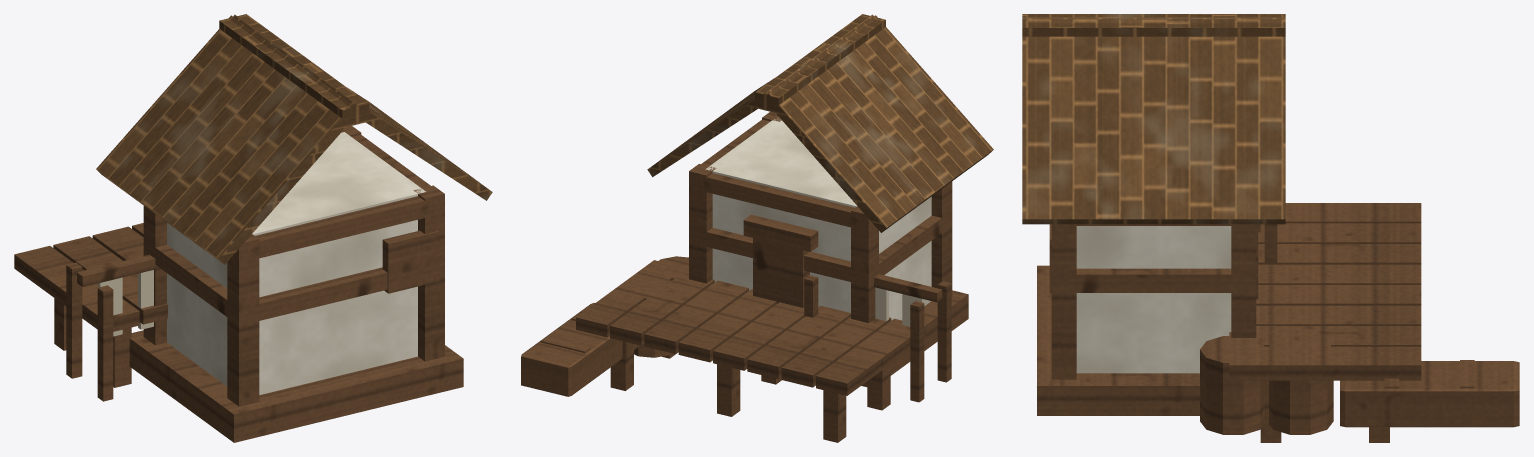
Rendered from fishing.gltf.
The picture shows the model from 3 angles, left to right: view 1: azimuth 30°, elevation 25°; view 2: azimuth 150°, elevation 25°; view 3: azimuth 270°, elevation 25°; orthographic projection. The views are drawn at different scales.
Parts seen in each view (by area): view 1: Fishing; view 2: Fishing; view 3: Fishing.
Part boxes in pixels (left/top/right/bottom): Fishing: left=14, top=14, right=492, bottom=442; Fishing: left=521, top=14, right=993, bottom=442; Fishing: left=1022, top=14, right=1519, bottom=442.
Size of the model in its own units: 2.07 by 1.88 by 2.38.
7 materials, 5 textured.
